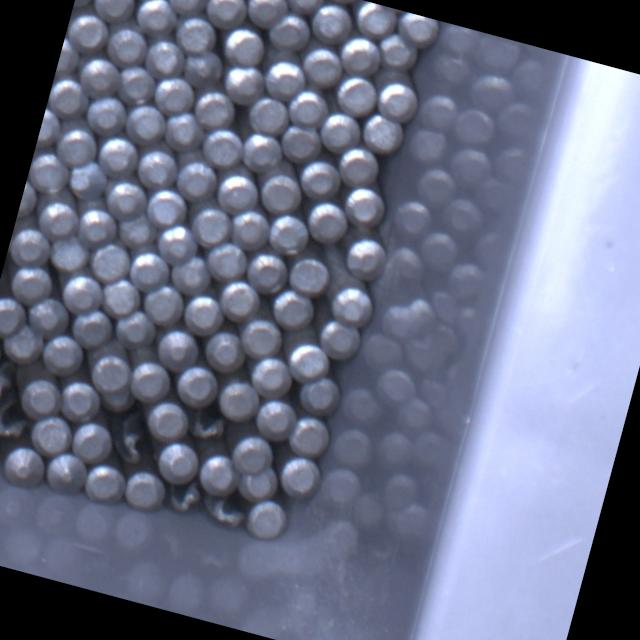tool: (100, 174, 152, 224), (172, 361, 222, 411), (246, 352, 296, 402), (302, 196, 352, 246), (38, 330, 88, 379), (154, 436, 203, 486), (40, 448, 89, 498), (51, 120, 100, 170), (152, 324, 202, 373), (126, 356, 175, 405), (58, 269, 107, 318), (213, 167, 262, 216), (72, 51, 121, 100), (82, 90, 132, 138), (332, 70, 382, 118), (236, 314, 286, 362), (268, 284, 318, 332), (132, 143, 182, 191), (160, 108, 210, 156), (282, 336, 332, 384), (0, 440, 48, 490), (342, 233, 390, 283), (219, 20, 269, 68), (44, 74, 92, 123), (251, 394, 299, 443), (143, 396, 192, 444), (56, 375, 104, 424), (276, 452, 324, 501), (333, 142, 382, 190), (104, 20, 153, 68), (374, 75, 422, 124), (339, 182, 388, 230), (26, 411, 76, 458), (315, 317, 365, 364), (96, 274, 144, 322), (214, 376, 262, 424), (200, 326, 248, 374), (24, 148, 72, 196), (6, 222, 54, 270), (63, 8, 111, 56), (120, 465, 168, 513), (94, 131, 142, 179), (140, 280, 188, 328), (174, 156, 222, 204), (264, 209, 312, 257), (256, 170, 304, 218), (238, 128, 286, 176), (110, 304, 158, 352), (154, 220, 202, 268), (195, 449, 242, 498), (242, 247, 291, 294), (328, 283, 377, 330), (4, 260, 54, 306), (220, 58, 270, 104), (243, 496, 290, 544), (225, 204, 272, 252), (126, 245, 174, 292), (86, 239, 134, 286), (68, 417, 115, 465), (86, 349, 134, 396), (80, 459, 128, 506), (64, 156, 112, 203), (151, 73, 199, 120), (228, 429, 276, 476), (142, 35, 190, 82), (123, 100, 170, 148), (180, 292, 228, 339), (69, 304, 117, 351), (298, 43, 346, 90), (294, 371, 342, 418), (261, 56, 309, 103), (26, 292, 75, 338), (198, 123, 245, 170), (33, 195, 80, 242), (187, 201, 234, 248), (316, 106, 362, 154), (144, 183, 192, 229), (296, 154, 344, 200), (214, 276, 262, 322), (358, 110, 406, 156), (190, 86, 238, 132), (202, 237, 250, 283), (0, 319, 46, 367), (17, 372, 63, 420), (278, 120, 326, 166), (172, 10, 219, 56), (288, 411, 334, 458), (114, 61, 160, 108), (282, 86, 329, 132), (116, 209, 164, 254), (286, 252, 332, 298), (74, 202, 120, 248), (47, 232, 94, 277), (170, 251, 217, 296), (337, 32, 382, 78), (236, 461, 282, 505), (308, 0, 354, 44), (244, 94, 290, 138), (179, 46, 225, 90), (266, 12, 312, 56), (373, 29, 419, 72), (394, 10, 442, 50), (133, 0, 182, 39), (201, 0, 248, 30), (243, 0, 289, 30), (35, 108, 64, 152), (88, 0, 137, 26), (0, 291, 27, 338), (55, 36, 84, 79), (16, 178, 42, 222), (164, 0, 211, 17), (280, 0, 320, 18), (72, 0, 99, 11)
tool_b: (108, 422, 156, 470), (202, 492, 250, 532), (349, 0, 398, 38), (160, 477, 204, 519), (187, 408, 230, 448), (0, 397, 32, 444), (0, 365, 17, 407)
